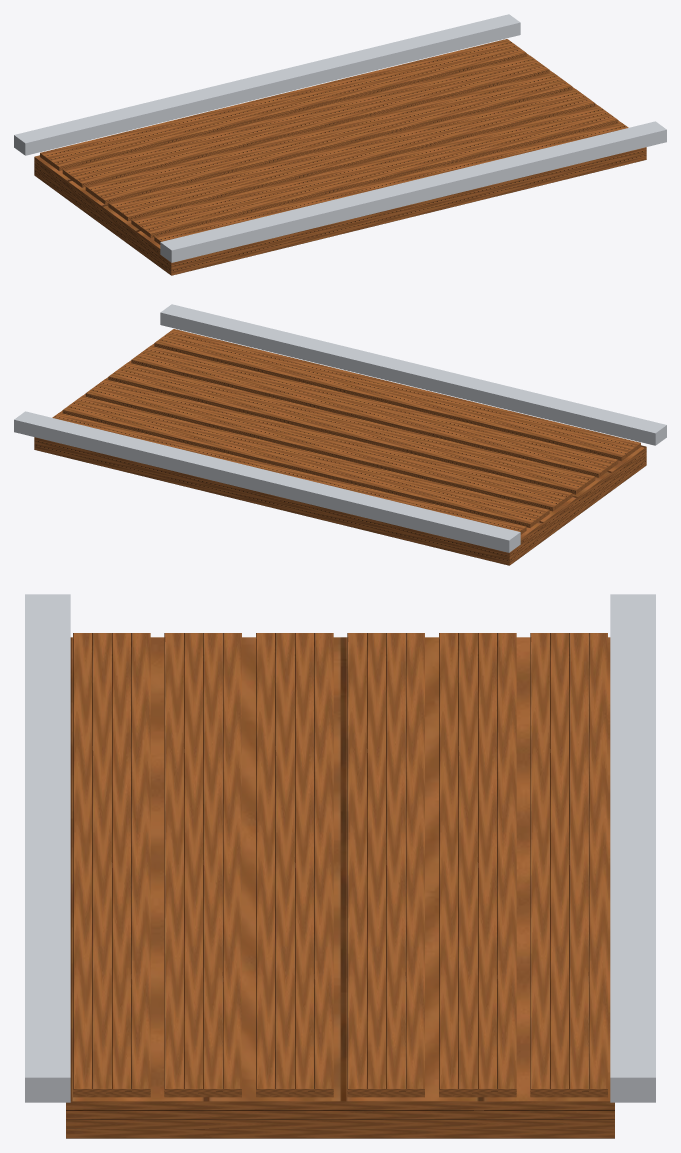
The model's file is velodrome-and-track-cycling-track-surface-board-panel-a510fc37__37984.glb.
The picture shows the model from 3 angles, top to bottom: view 1: azimuth 30°, elevation 25°; view 2: azimuth 150°, elevation 25°; view 3: azimuth 270°, elevation 25°; orthographic projection. The views are drawn at different scales.
Parts seen in each view (by area): view 1: track-surface-board-panel-board, track-surface-board-panel-steel; view 2: track-surface-board-panel-board, track-surface-board-panel-steel; view 3: track-surface-board-panel-board, track-surface-board-panel-steel.
Part boxes in pixels (<box>): track-surface-board-panel-board: <box>34,39,646,275</box>; track-surface-board-panel-steel: <box>14,14,666,262</box>; track-surface-board-panel-board: <box>34,329,646,565</box>; track-surface-board-panel-steel: <box>14,304,666,552</box>; track-surface-board-panel-board: <box>66,633,614,1138</box>; track-surface-board-panel-steel: <box>25,594,655,1102</box>.
Size of the model in its own units: 2.5 by 0.17 by 1.38.
Materials: 2 (1 with a texture image).
